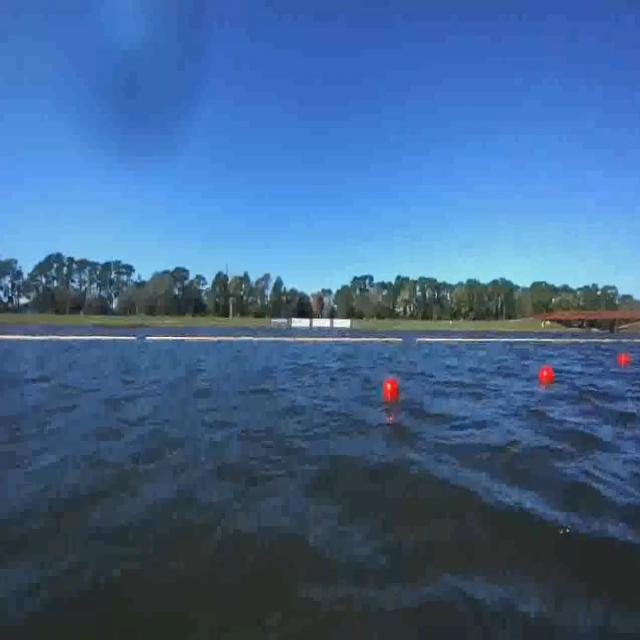red-buoy: (540, 364, 556, 384), (382, 376, 396, 398), (618, 352, 632, 368)
